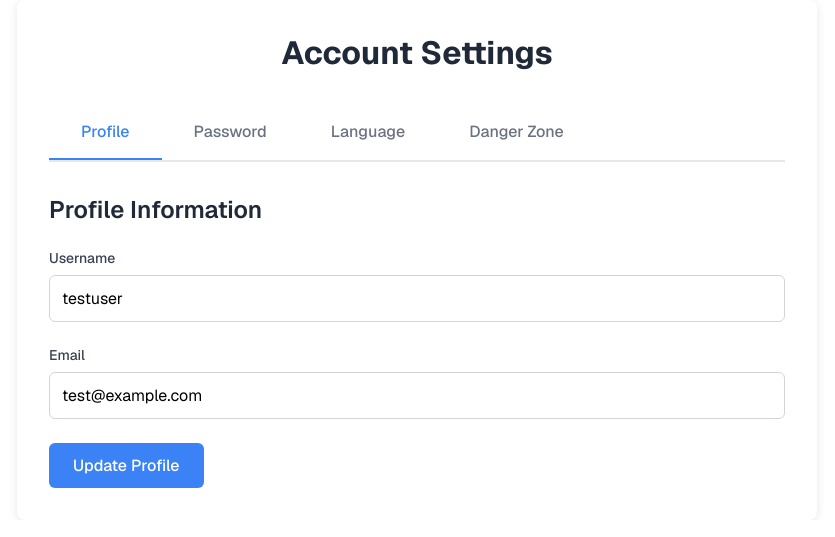
Scenario: AccountSettings › switches to language tab when clicked
This screenshot has width=835, height=537.
Click the button "Language". click: (368, 132)
box: [299, 105, 437, 160]
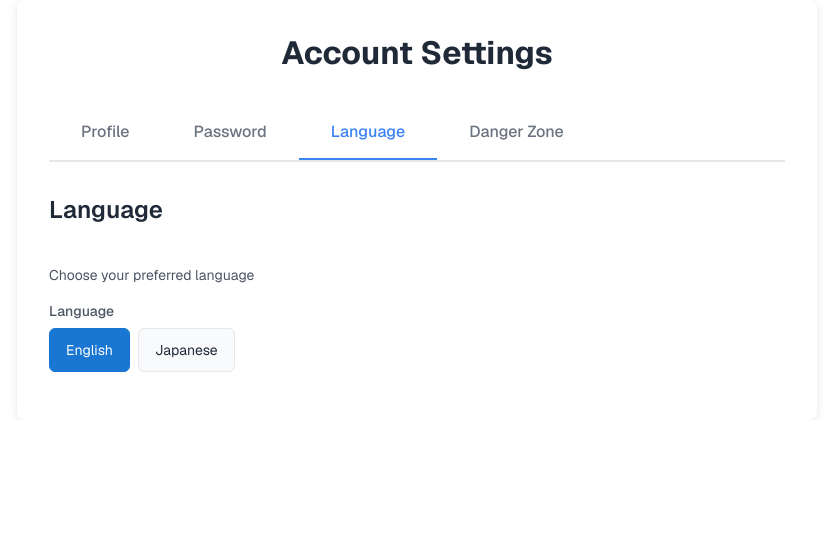
Expected: the text "Choose your preferred language" is shown, [49, 266, 254, 284]
Expected: the button "English" is shown, [49, 328, 130, 372]
Expected: the button "Japanese" is shown, [138, 328, 235, 372]
